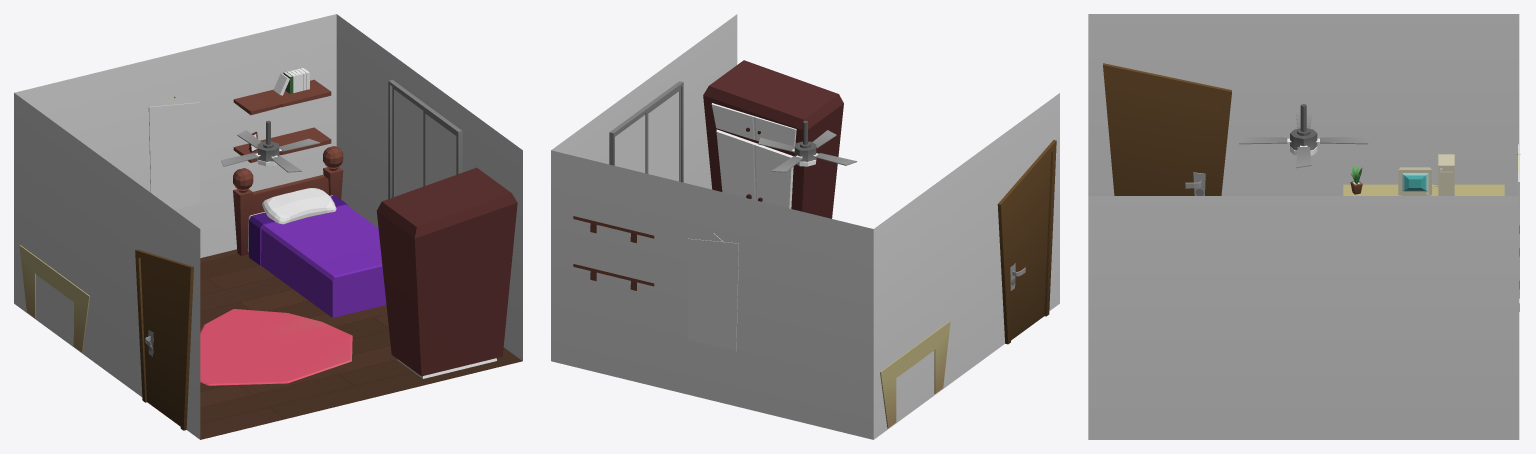
Rendered from raytracing2.fbx.
3 renders of one model, left to right at view 1: azimuth 30°, elevation 25°; view 2: azimuth 150°, elevation 25°; view 3: azimuth 270°, elevation 25°, orthographic. The views are drawn at different scales.
Visible parts, largest first — view 1: Paredes, Armário, Cama.002, Tapete, Porta, Espelho, Vidros, Cama.003, Mesa, Janela, Cama.001, Prateleira.001 (+3 smaller); view 2: Paredes, Armário, Porta, Armário.001, Espelho, Vidros, Mesa, Janela, Ventilador de teto.001, Ventilador de teto; view 3: Paredes, Porta, Mesa, PC, Ventilador de teto.001, Ventilador de teto, PC.001.
Part boxes in pixels (box(x1,y1,x2,y2)): Paredes: box(14, 14, 522, 439); Armário: box(376, 167, 517, 376); Cama.002: box(249, 195, 386, 317); Tapete: box(200, 309, 352, 385); Porta: box(135, 249, 193, 430); Espelho: box(148, 102, 199, 209); Vidros: box(394, 90, 456, 196); Cama.003: box(233, 146, 343, 255); Mesa: box(19, 245, 89, 352); Janela: box(388, 80, 462, 198); Cama.001: box(262, 188, 336, 224); Prateleira.001: box(233, 79, 331, 115); Paredes: box(551, 14, 1059, 439); Armário: box(703, 60, 843, 218); Porta: box(997, 140, 1056, 344); Armário.001: box(711, 103, 796, 208); Espelho: box(688, 238, 738, 351); Vidros: box(615, 91, 678, 181); Mesa: box(880, 321, 950, 428); Janela: box(609, 81, 683, 182); Ventilador de teto.001: box(758, 130, 857, 172); Ventilador de teto: box(794, 120, 816, 161); Paredes: box(1088, 14, 1519, 439); Porta: box(1103, 63, 1231, 195); Mesa: box(1343, 184, 1504, 195); PC: box(1398, 154, 1454, 195); Ventilador de teto.001: box(1239, 112, 1368, 168); Ventilador de teto: box(1290, 104, 1317, 150); PC.001: box(1402, 173, 1428, 191).
Bounding box in the file's own units: 410 × 251 × 402.
